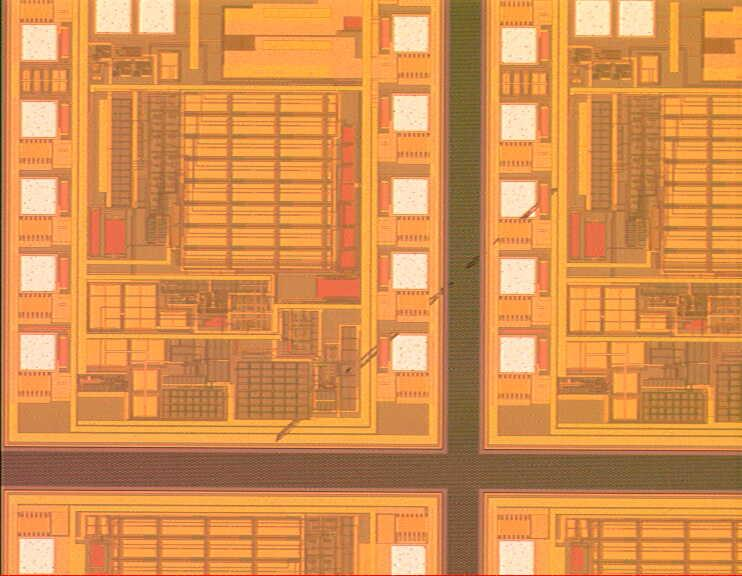SCRATCH: (270, 181, 567, 449)
